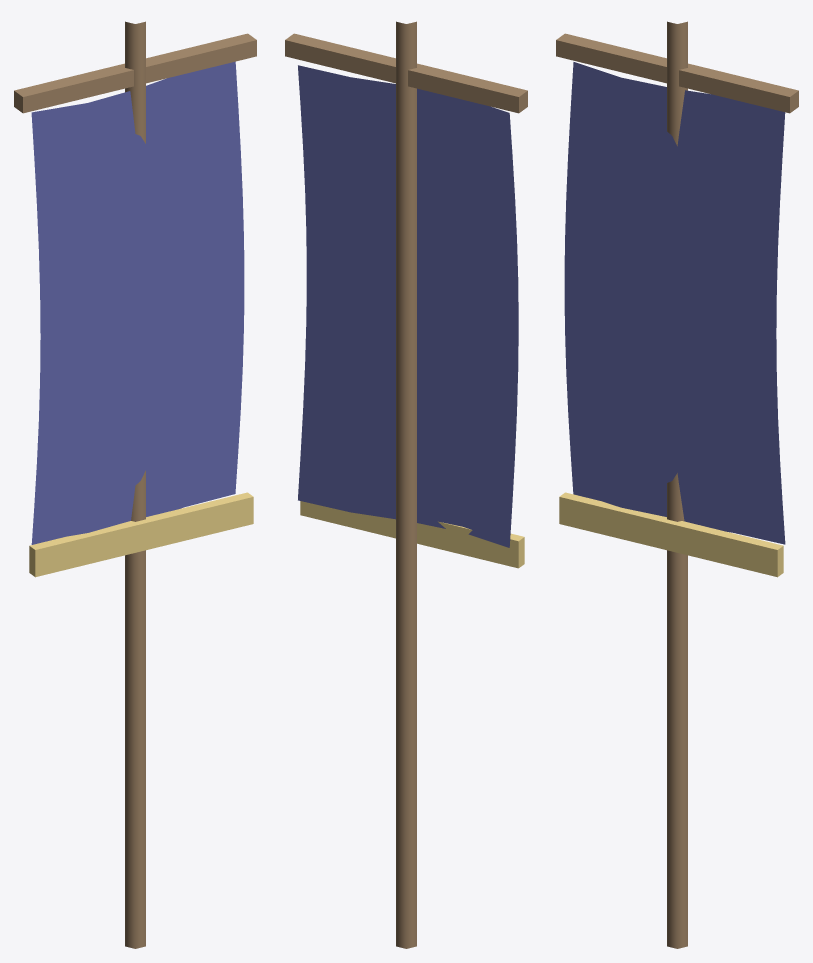
The model's file is BannerIndigo.glb.
3 renders of one model, left to right at view 1: azimuth 30°, elevation 25°; view 2: azimuth 150°, elevation 25°; view 3: azimuth 330°, elevation 25°, orthographic.
Visible parts, largest first — view 1: BannerIndigo; view 2: BannerIndigo; view 3: BannerIndigo.
Boxes of the visible parts, x1=… form: BannerIndigo: x1=14, y1=21, x2=256, y2=948; BannerIndigo: x1=285, y1=21, x2=527, y2=948; BannerIndigo: x1=556, y1=21, x2=798, y2=948.
Size of the model in its own units: 0.9 by 3.4 by 0.1235.
